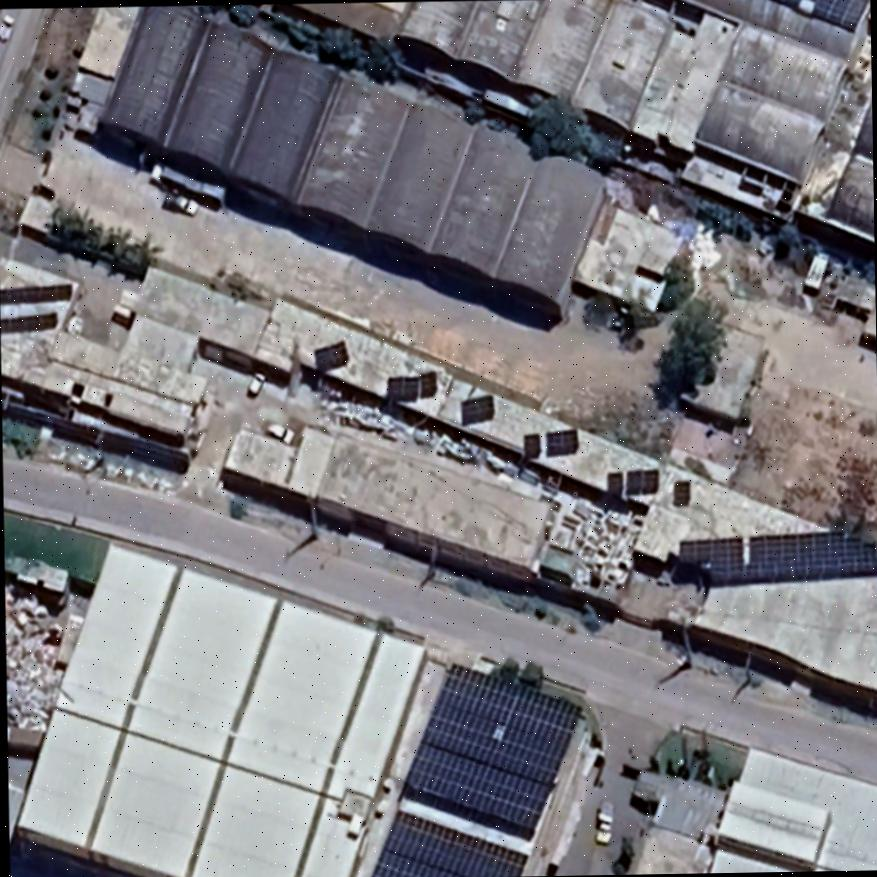Solarpanel: (395, 659, 582, 840), (671, 518, 877, 590), (361, 803, 532, 877), (759, 0, 866, 39), (511, 420, 581, 468), (595, 462, 663, 503), (448, 386, 499, 433), (381, 364, 437, 405), (0, 278, 74, 309), (303, 337, 350, 377), (0, 315, 59, 335), (669, 474, 693, 508)
